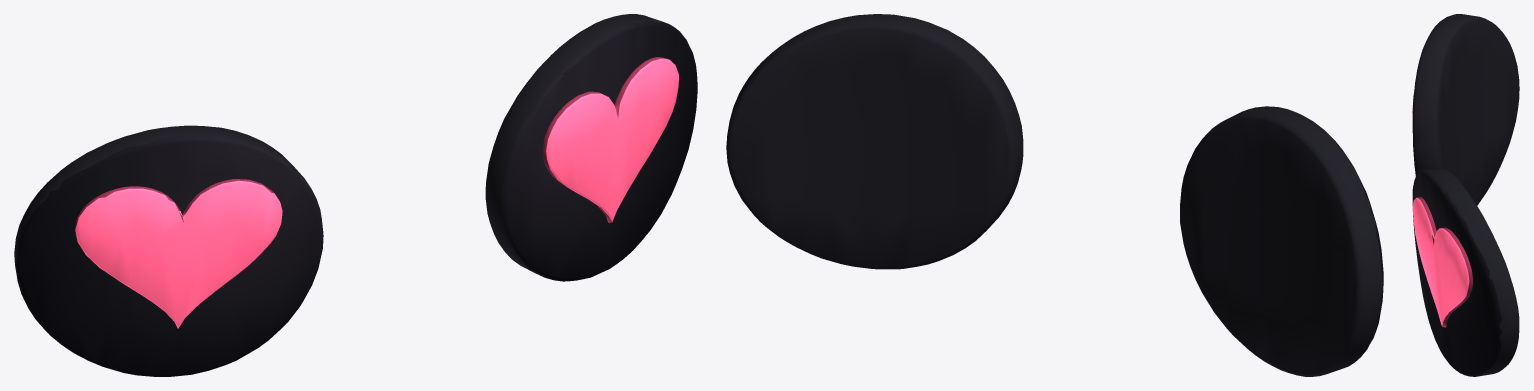
File: eyes-hearts.glb
3 views of the same model, side by side, from view 1: azimuth 30°, elevation 25°; view 2: azimuth 150°, elevation 25°; view 3: azimuth 270°, elevation 25° (orthographic). The views are drawn at different scales.
Visible parts, largest first — view 1: eyes-hearts; view 2: eyes-hearts; view 3: eyes-hearts.
Boxes of the visible parts, x1,y1,x2,y2 form: eyes-hearts: (14,14,697,376); eyes-hearts: (726,14,1383,376); eyes-hearts: (1412,14,1519,376).
Size of the model in its own units: 0.4869 by 0.1701 by 0.089.
